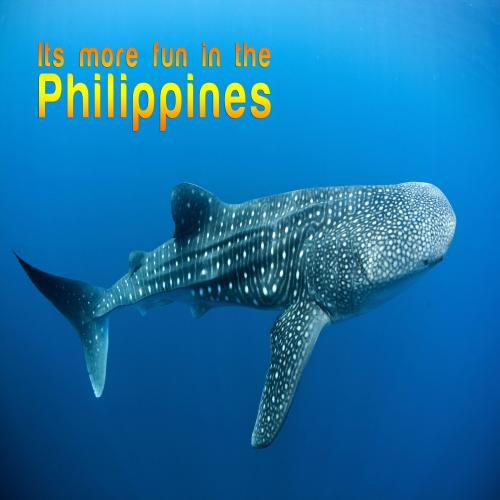shark-endangered: (12, 174, 458, 453)
